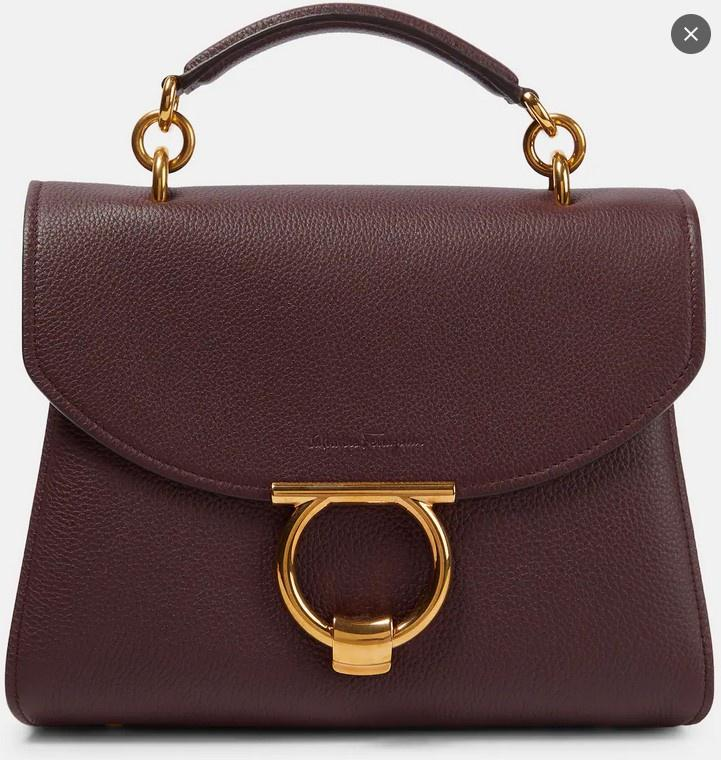FERRAGAMO: (251, 463, 480, 689)
